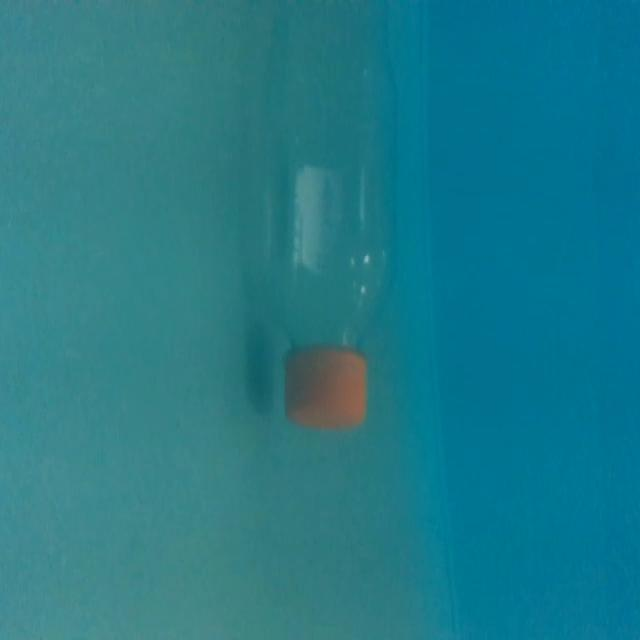plastic bottle: (239, 4, 411, 438)
